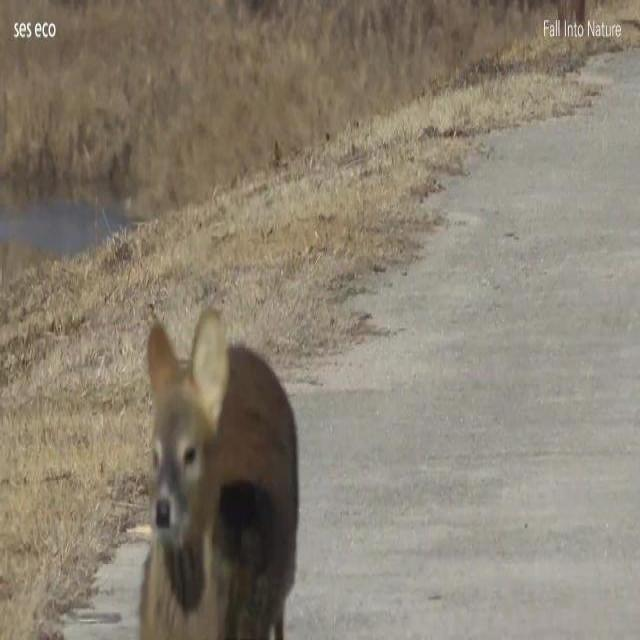deer: (137, 314, 301, 640)
